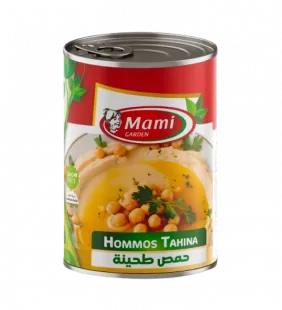Promotion: (52, 20, 228, 285)
